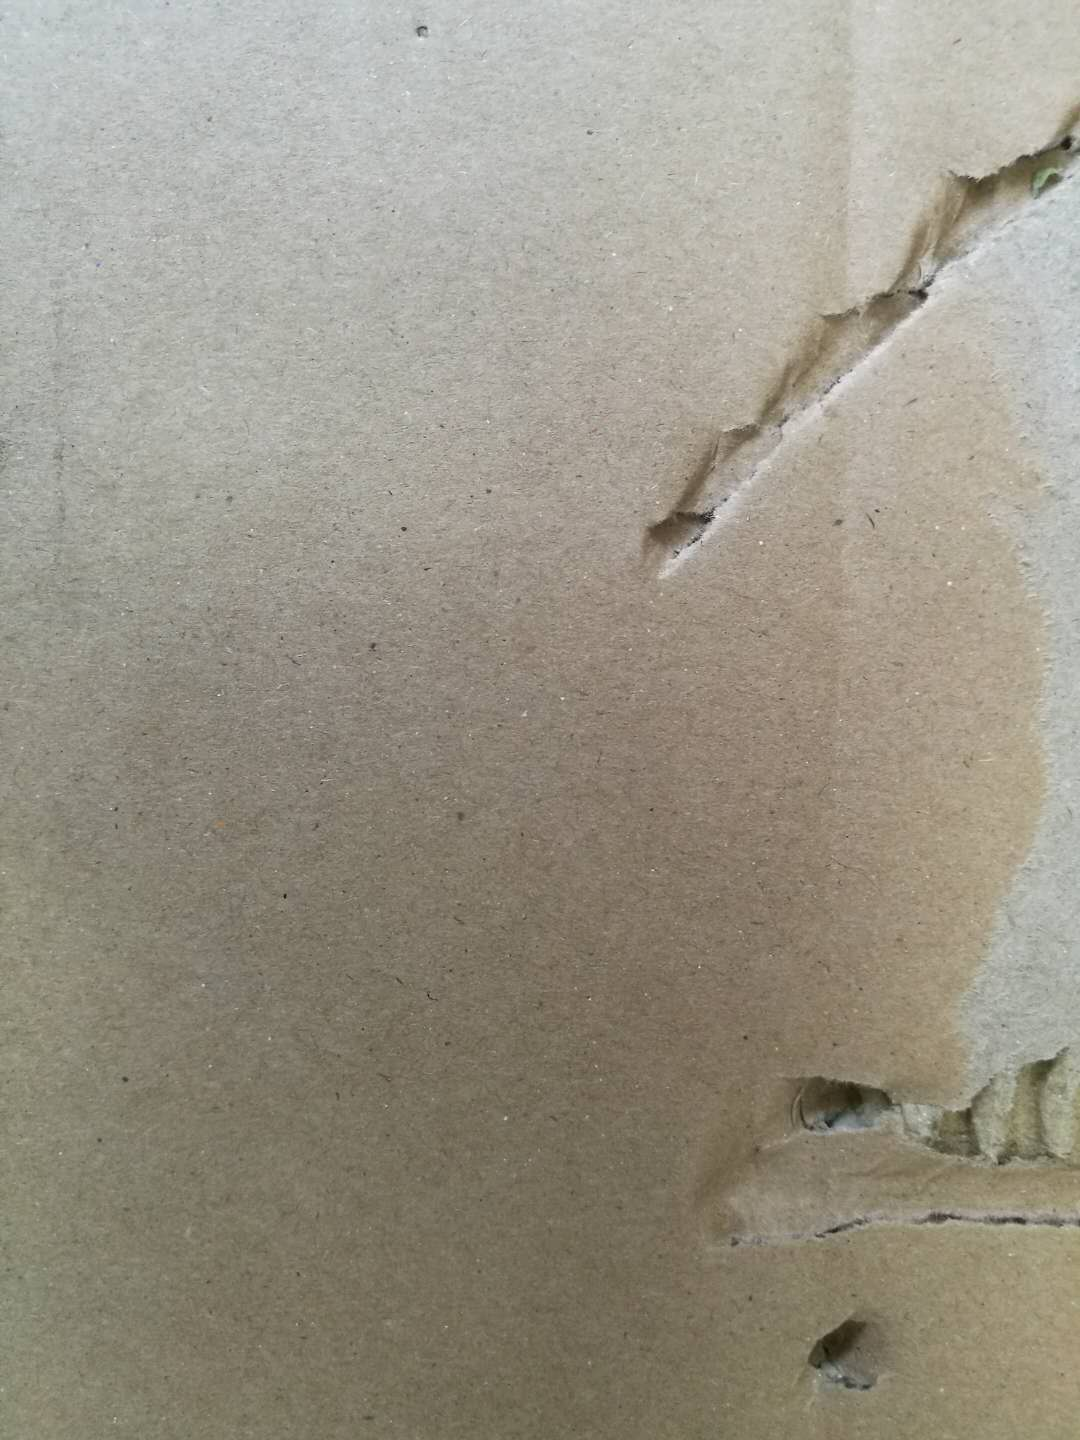defect: (677, 141, 1080, 1324), (588, 62, 1080, 628), (786, 1287, 916, 1421)
